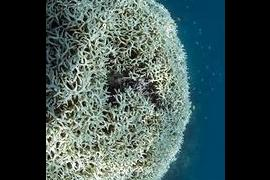bleached_corals: (45, 0, 189, 180)
